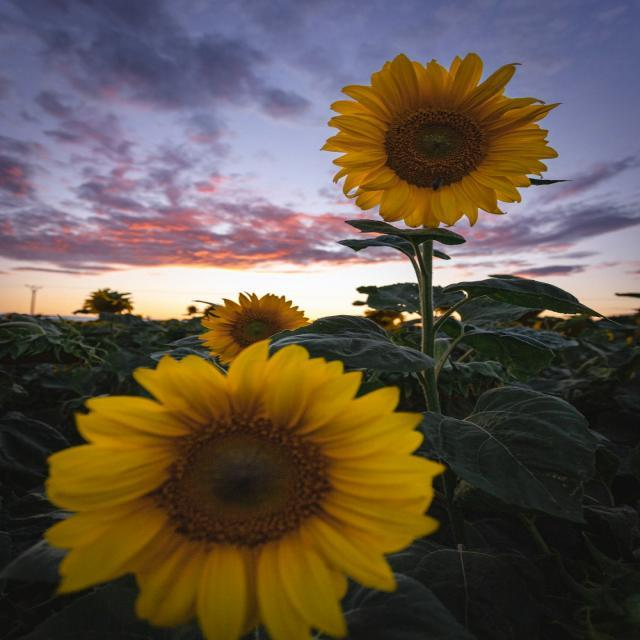sunflower: (42, 338, 446, 640), (319, 52, 562, 228), (196, 291, 310, 365), (83, 288, 133, 315), (364, 308, 406, 320), (374, 319, 402, 332), (534, 321, 558, 333), (432, 305, 452, 314)
